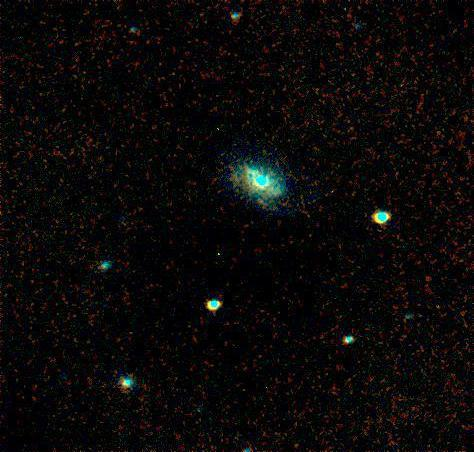star: (68, 59, 98, 89)
